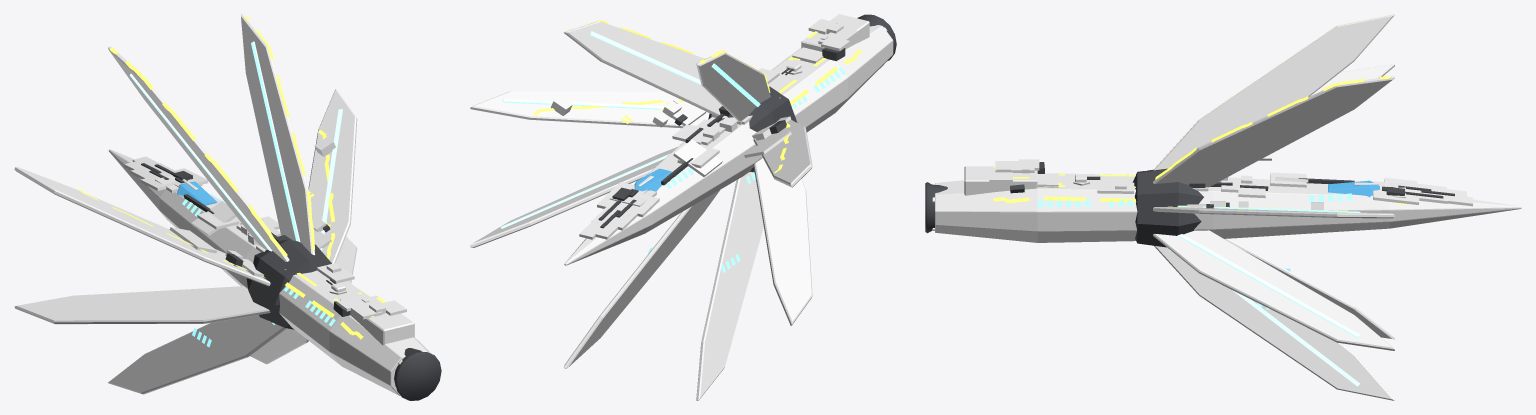
File: peleng.glb
The picture shows the model from 3 angles, left to right: view 1: azimuth 30°, elevation 25°; view 2: azimuth 150°, elevation 25°; view 3: azimuth 270°, elevation 25°; orthographic projection. The views are drawn at different scales.
Parts seen in each view (by area): view 1: Корпус, Лепесток.003, Лепесток.002, Лепесток.006, Накладные_плиты, Лепесток.007, Лепесток.004, Сердцевина, Лепесток.005, Разметка, Кожух_дюзы, Кассета_зондов (+8 smaller); view 2: Корпус, Накладные_плиты, Лепесток.002, Лепесток.003, Лепесток.006, Лепесток.007, Лепесток.001, Лепесток.005, Лепесток, Лепесток.004, Механика, Разметка (+8 smaller); view 3: Корпус, Лепесток.005, Лепесток, Лепесток.006, Лепесток.001, Накладные_плиты, Сердцевина, Лепесток.007, Разметка, Кассета_зондов, Механика, Лепесток.002 (+6 smaller).
Part boxes in pixels (x1,y1,x2,y2): Корпус: (108,149,431,395); Лепесток.003: (14,286,270,324); Лепесток.002: (108,315,286,394); Лепесток.006: (241,14,315,255); Накладные_плиты: (124,137,406,319); Лепесток.007: (308,89,357,263); Лепесток.004: (14,167,270,286); Сердцевина: (246,239,331,329); Лепесток.005: (108,46,289,261); Разметка: (78,15,385,339); Кожух_дюзы: (394,348,441,400); Кассета_зондов: (350,295,414,345); Корпус: (564,25,893,265); Накладные_плиты: (550,19,858,239); Лепесток.002: (696,172,763,400); Лепесток.003: (753,158,812,325); Лепесток.006: (563,21,722,116); Лепесток.007: (470,91,709,128); Лепесток.001: (564,190,719,368); Лепесток.005: (696,52,770,121); Лепесток: (470,147,677,247); Лепесток.004: (753,119,812,187); Механика: (598,48,845,228); Разметка: (533,20,862,173); Корпус: (935,173,1521,242); Лепесток.005: (1153,14,1394,170); Лепесток: (1153,230,1394,350); Лепесток.006: (1153,76,1394,187); Лепесток.001: (1154,246,1394,400); Накладные_плиты: (989,153,1473,210); Сердцевина: (1132,168,1203,247); Лепесток.007: (1153,207,1394,218); Разметка: (993,14,1405,210); Кассета_зондов: (964,166,1037,195); Механика: (1010,162,1454,208); Лепесток.002: (1224,238,1394,339).
Size of the model in its own units: 1.22 by 1.22 by 2.03.
